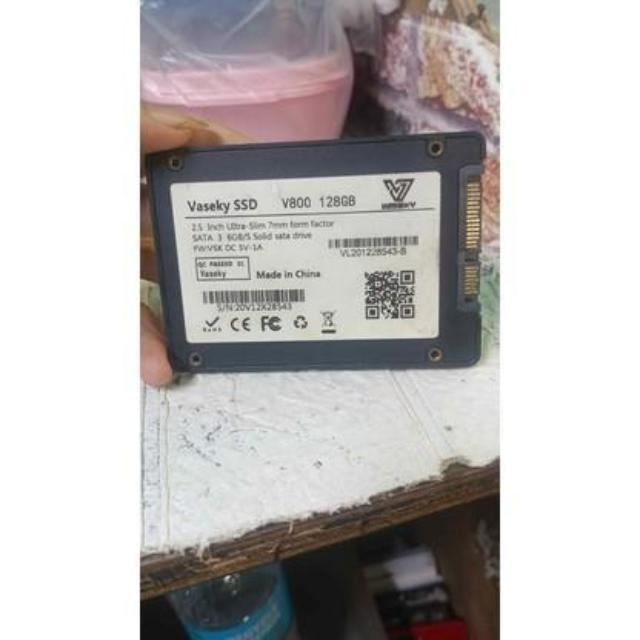DISK: (138, 116, 490, 382)
